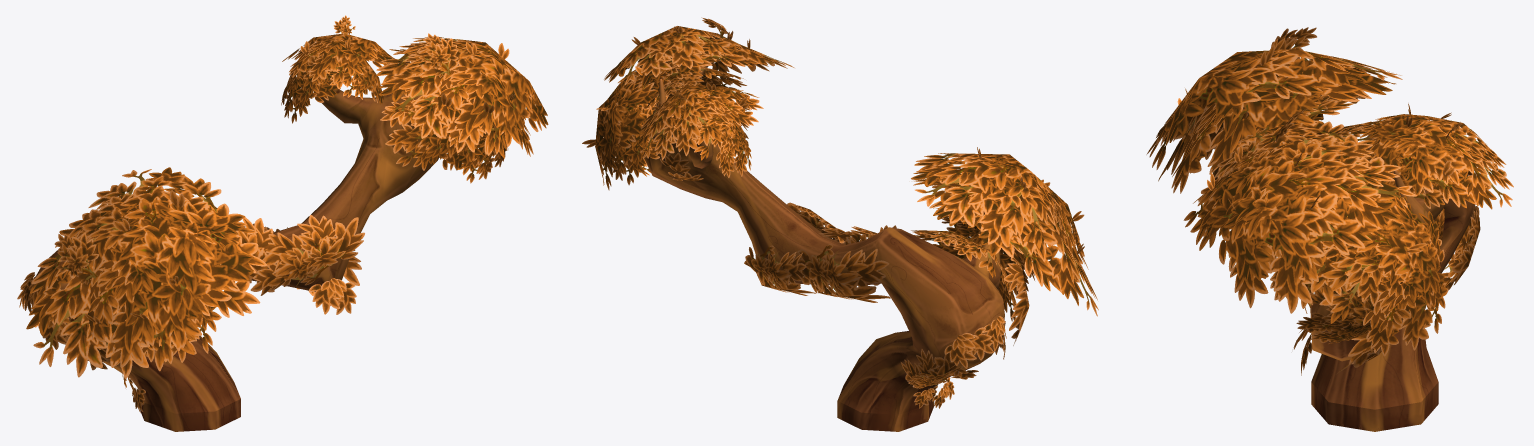
File: 3_Cafe.fbx
3 renders of one model, left to right at view 1: azimuth 30°, elevation 25°; view 2: azimuth 150°, elevation 25°; view 3: azimuth 270°, elevation 25°, orthographic. The views are drawn at different scales.
Visible parts, largest first — view 1: 3_Cafe_LOD_0; view 2: 3_Cafe_LOD_0; view 3: 3_Cafe_LOD_0.
Boxes of the visible parts, x1=… form: 3_Cafe_LOD_0: x1=17, y1=15, x2=548, y2=431; 3_Cafe_LOD_0: x1=582, y1=17, x2=1098, y2=431; 3_Cafe_LOD_0: x1=1146, y1=27, x2=1513, y2=431.
Bounding box in the file's own units: 755 × 493 × 406.
